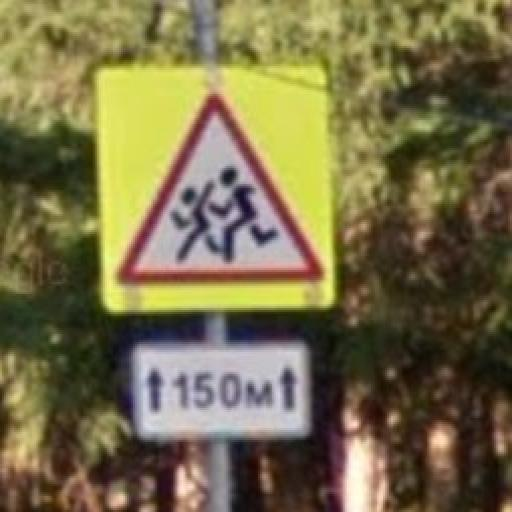traffic_sign: (118, 91, 325, 291)
